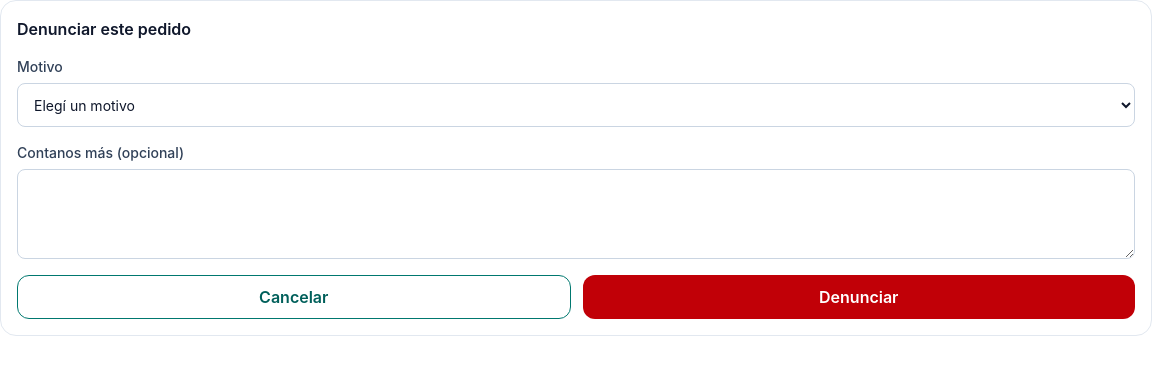
Test: FormularioDenuncia › muestra el error tipado de la api cuando falla el envio
The width and height of the screenshot is (1152, 389).
Select "Otro motivo" in the dropdown labelled "Motivo" at (576, 105), box [17, 83, 1135, 127]
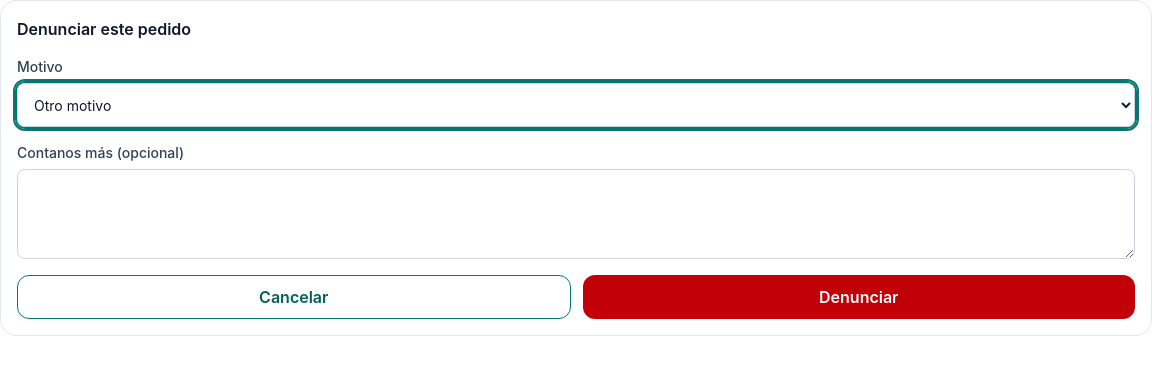
Click the button "Denunciar" at (859, 297), box [582, 275, 1135, 319]
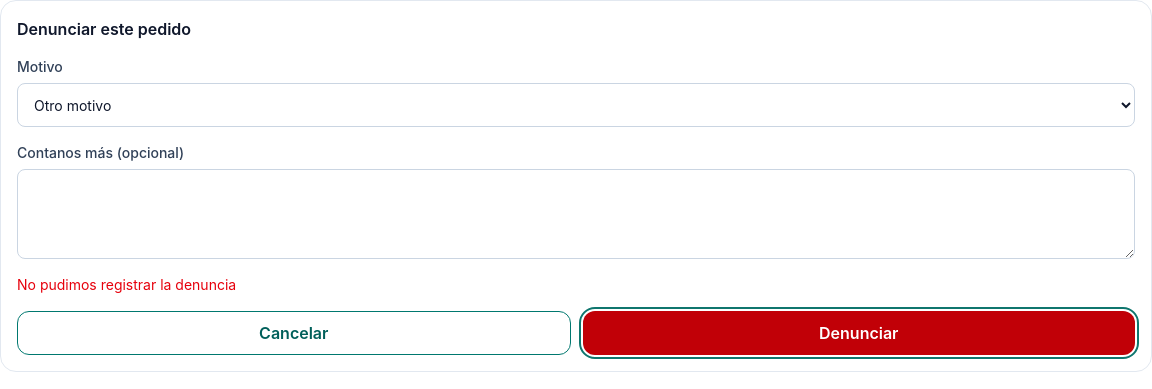
Check: the text "No pudimos registrar la denuncia" is shown, box [17, 276, 236, 293]
